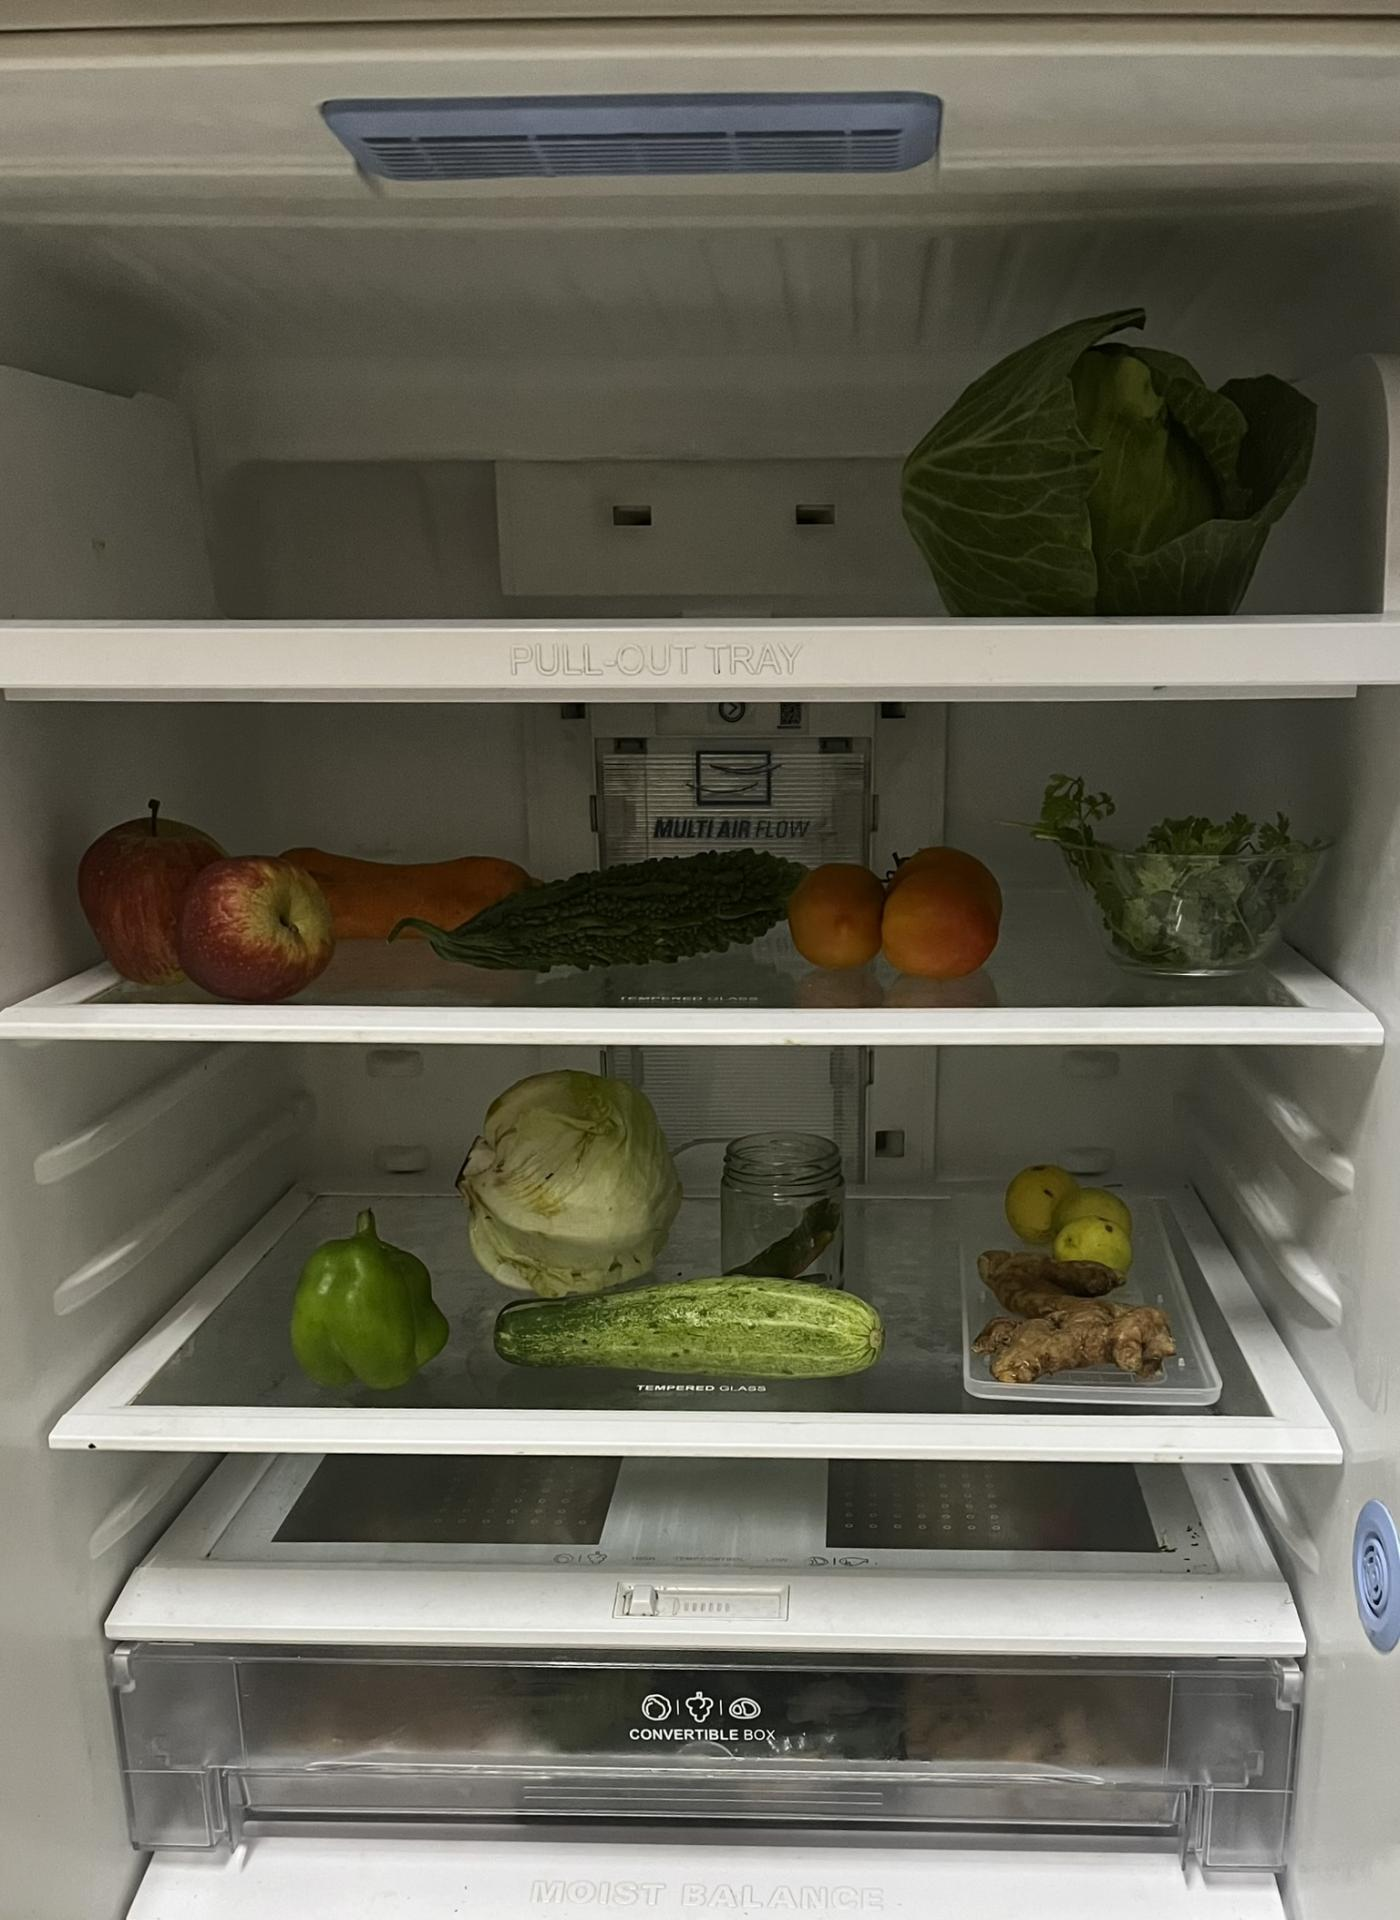apple: (82, 806, 334, 997)
cabbage: (905, 310, 1303, 610)
capsicum: (301, 1222, 431, 1379)
carrots: (289, 841, 547, 941)
chillies: (741, 1209, 842, 1269)
coriander: (1066, 790, 1300, 969)
cucumber: (489, 1282, 893, 1368)
ginger: (990, 1246, 1188, 1382)
lemon: (1003, 1160, 1139, 1263)
lettuce: (462, 1069, 680, 1300)
tomato: (805, 838, 994, 969)
